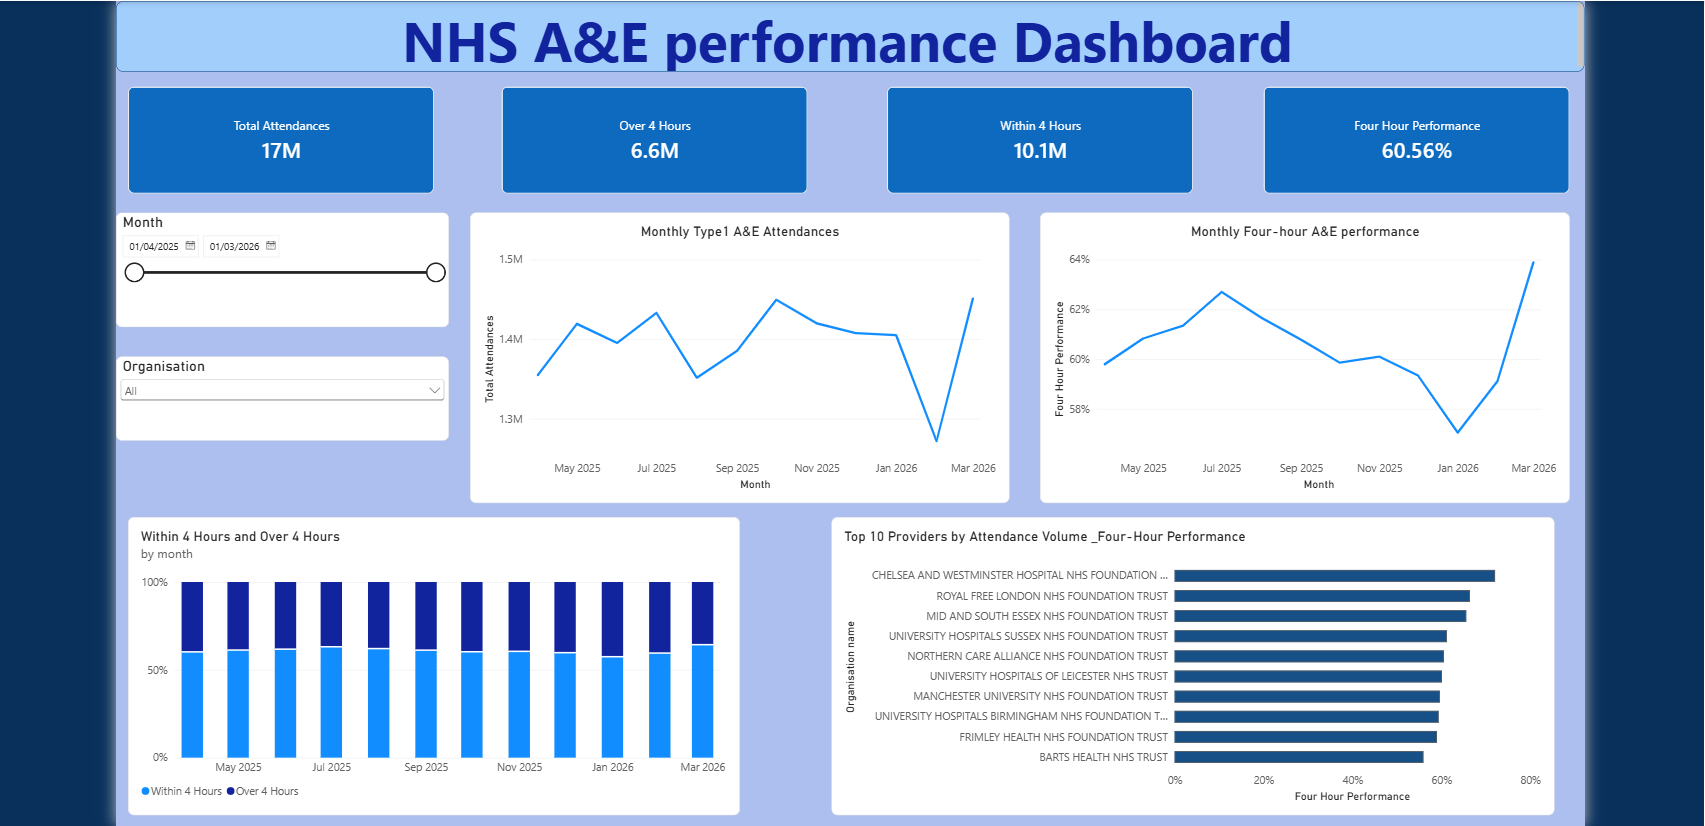

The page's visual inventory and layout, read from the dashboard file:
{"tool":"powerbi","page":{"name":"Page 1","canvas":[1920,1080],"ordinal":0},"visuals":[{"type":"cardVisual","fields":{"Data":["monthly_ae_dashboard.Total Attendances"]},"box":[15,112.5,400,140.8],"z":0},{"type":"cardVisual","fields":{"Data":["monthly_ae_dashboard.Over 4 Hours"]},"box":[505,112.5,400,140.8],"z":1000},{"type":"cardVisual","fields":{"Data":["monthly_ae_dashboard.Four Hour Performance"]},"box":[1500,112.5,400,140.8],"z":2000},{"type":"cardVisual","fields":{"Data":["monthly_ae_dashboard.Within 4 Hours"]},"box":[1007.5,112.5,400,140.8],"z":3000},{"type":"lineChart","title":"Monthly Type1 A&E Attendances","fields":{"Category":["monthly_ae_dashboard.month"],"Y":["monthly_ae_dashboard.Total Attendances"]},"box":[462.5,277.5,705,380],"z":4000},{"type":"lineChart","title":"Monthly Four-hour A&E performance","fields":{"Category":["monthly_ae_dashboard.month"],"Y":["monthly_ae_dashboard.Four Hour Performance"]},"box":[1207.5,277.5,692.5,380],"z":5000},{"type":"textbox","box":[0,0,1920,92.5],"z":6000},{"type":"clusteredBarChart","title":"Top 10 Providers by Attendance Volume _Four-Hour Performance","fields":{"Category":["monthly_ae_dashboard.org_name"],"Y":["monthly_ae_dashboard.Four Hour Performance"]},"box":[935,675,945,390],"z":7000},{"type":"slicer","fields":{"Values":["monthly_ae_dashboard.month"]},"box":[0,277.5,435,150],"z":8000},{"type":"slicer","fields":{"Values":["monthly_ae_dashboard.org_name"]},"box":[0,465,435,110],"z":9000},{"type":"hundredPercentStackedColumnChart","fields":{"Category":["monthly_ae_dashboard.month"],"Y":["monthly_ae_dashboard.Within 4 Hours","monthly_ae_dashboard.Over 4 Hours"]},"box":[15,675,800,390],"z":10000}]}

Visuals, with their boxes on the page's 1920x1080 design canvas (x1, y1, x2, y2). These are canvas units, not pixel positions in the 1705x826 screenshot, which may show the page scaled, cropped or inside an application window:
cardVisual - monthly_ae_dashboard.Total Attendances: [left=15, top=112, right=415, bottom=253]
cardVisual - monthly_ae_dashboard.Over 4 Hours: [left=505, top=112, right=905, bottom=253]
cardVisual - monthly_ae_dashboard.Four Hour Performance: [left=1500, top=112, right=1900, bottom=253]
cardVisual - monthly_ae_dashboard.Within 4 Hours: [left=1008, top=112, right=1408, bottom=253]
"Monthly Type1 A&E Attendances" lineChart: [left=462, top=278, right=1168, bottom=658]
"Monthly Four-hour A&E performance" lineChart: [left=1208, top=278, right=1900, bottom=658]
textbox: [left=0, top=0, right=1920, bottom=92]
"Top 10 Providers by Attendance Volume _Four-Hour Performance" clusteredBarChart: [left=935, top=675, right=1880, bottom=1065]
slicer - monthly_ae_dashboard.month: [left=0, top=278, right=435, bottom=428]
slicer - monthly_ae_dashboard.org_name: [left=0, top=465, right=435, bottom=575]
hundredPercentStackedColumnChart - monthly_ae_dashboard.month x monthly_ae_dashboard.Within 4 Hours: [left=15, top=675, right=815, bottom=1065]
